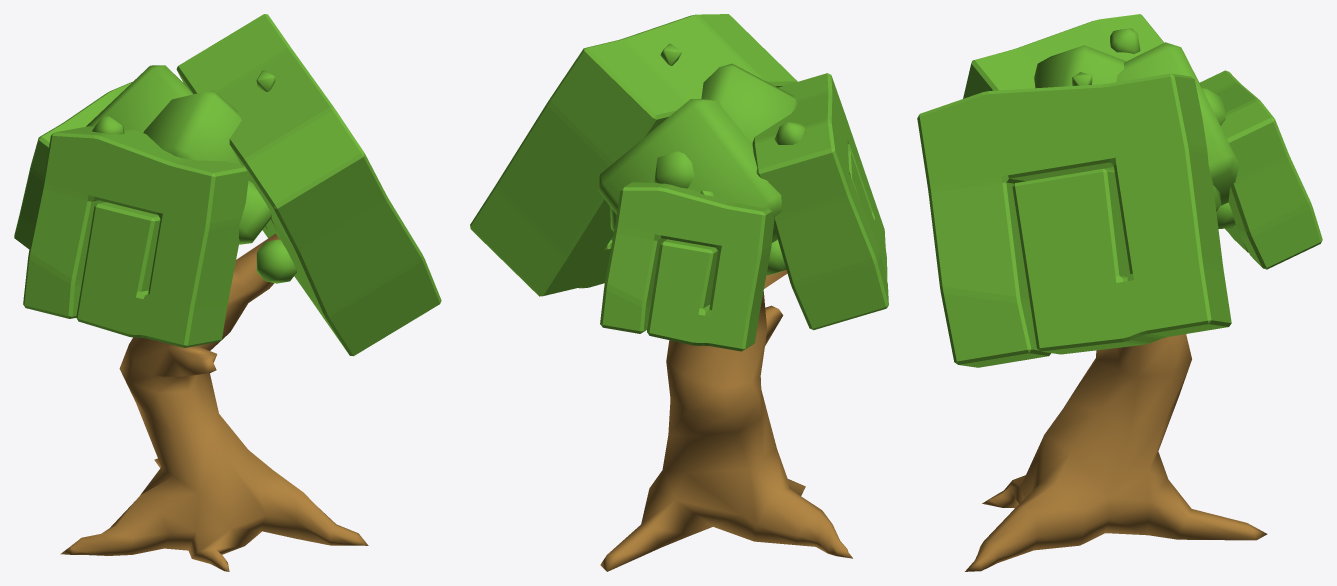
Rendered from StylizedLowPolyTree.fbx.
The picture shows the model from 3 angles, left to right: view 1: azimuth 30°, elevation 25°; view 2: azimuth 150°, elevation 25°; view 3: azimuth 270°, elevation 25°; orthographic projection. The views are drawn at different scales.
Visible parts, largest first — view 1: BigLeaves, Trunk, SmallLeaves; view 2: BigLeaves, Trunk, SmallLeaves; view 3: BigLeaves, Trunk, SmallLeaves.
Part boxes in pixels (bbox=[...]): BigLeaves: bbox=[14, 14, 441, 356]; Trunk: bbox=[60, 233, 368, 571]; SmallLeaves: bbox=[86, 65, 296, 283]; BigLeaves: bbox=[470, 14, 888, 351]; Trunk: bbox=[600, 270, 852, 571]; SmallLeaves: bbox=[598, 43, 805, 275]; BigLeaves: bbox=[917, 14, 1322, 367]; Trunk: bbox=[965, 334, 1267, 571]; SmallLeaves: bbox=[1034, 28, 1239, 228].
Bounding box in the file's own units: 161 × 145 × 195.
